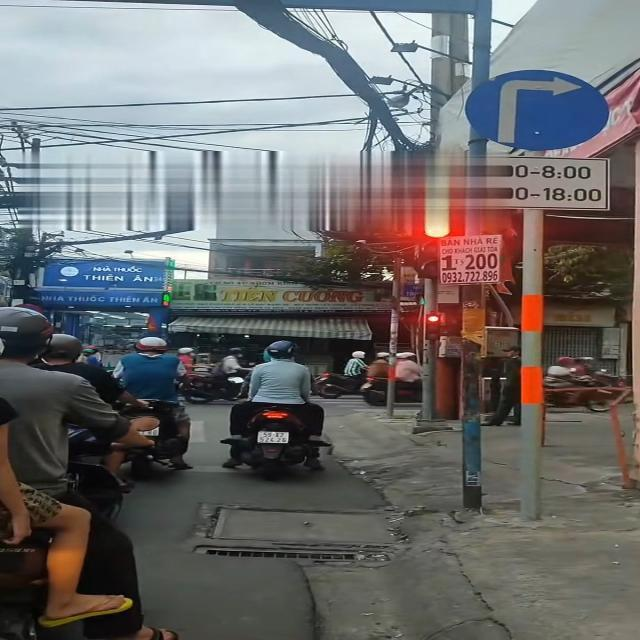301d-cac-xe-chi-duoc-re-phai-2: (462, 65, 613, 152)
